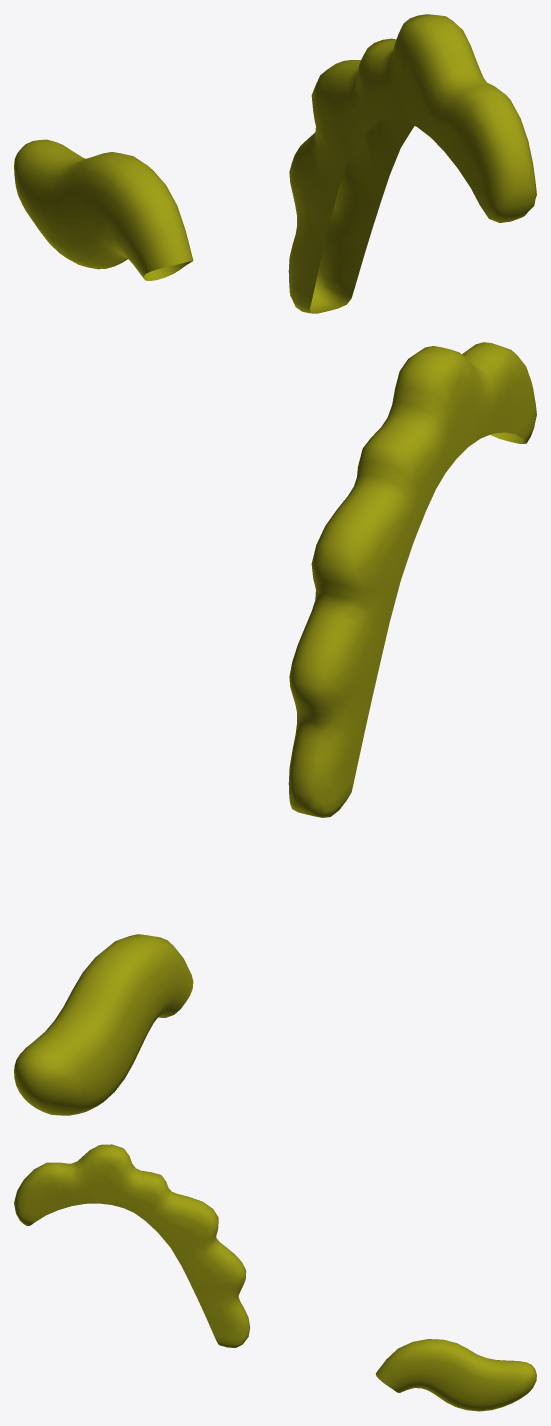
Rendered from SM_horse_hair.fbx.
3 views of the same model, one above another, from view 1: azimuth 30°, elevation 25°; view 2: azimuth 150°, elevation 25°; view 3: azimuth 270°, elevation 25° (orthographic). The views are drawn at different scales.
Visible parts, largest first — view 1: SM_horse_hair; view 2: SM_horse_hair; view 3: SM_horse_hair.
Boxes of the visible parts, left/top/right/bottom form: SM_horse_hair: left=14, top=14, right=536, bottom=313; SM_horse_hair: left=14, top=342, right=536, bottom=1115; SM_horse_hair: left=14, top=1144, right=536, bottom=1411.
Size of the model in its own units: 12.02 by 97.66 by 176.
